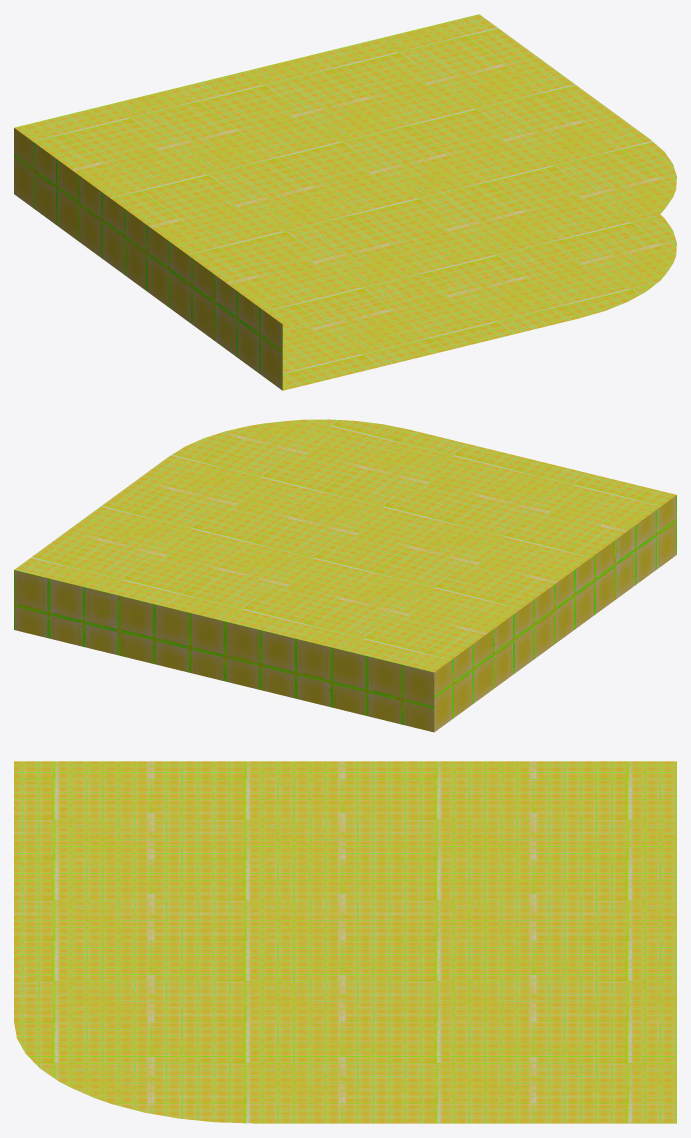
File: roof.fbx
The picture shows the model from 3 angles, top to bottom: view 1: azimuth 30°, elevation 25°; view 2: azimuth 150°, elevation 25°; view 3: azimuth 270°, elevation 25°; orthographic projection. The views are drawn at different scales.
Visible parts, largest first — view 1: polySurface54; view 2: polySurface54; view 3: polySurface54.
Boxes of the visible parts, x1,y1,x2,y2 form: polySurface54: (14,14,676,390); polySurface54: (14,419,676,732); polySurface54: (14,761,676,1123).
Bounding box in the file's own units: 1100 × 150 × 1100.
